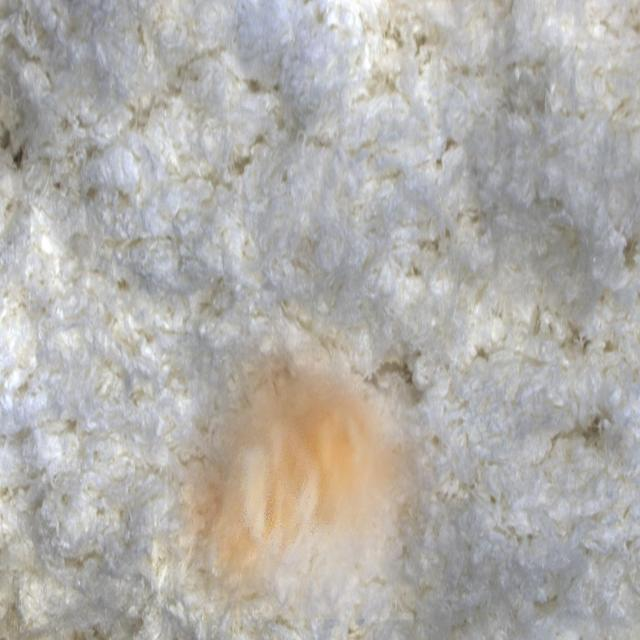dust: (168, 300, 456, 620)
